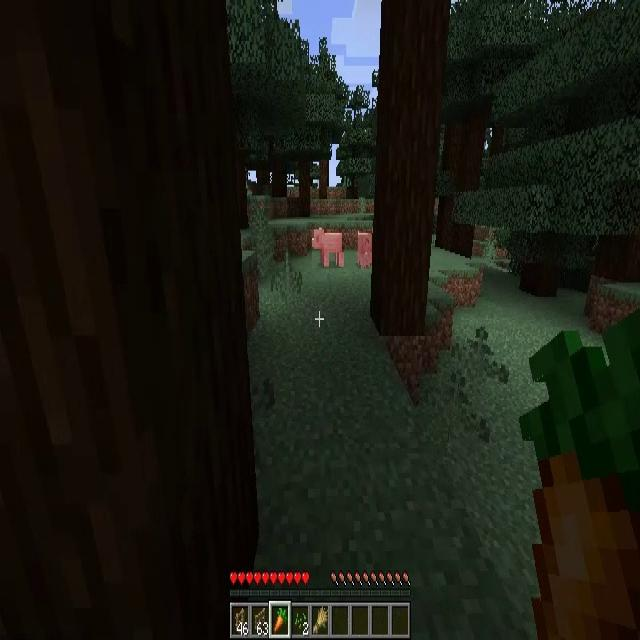pig: (312, 226, 344, 268), (358, 231, 372, 270)
